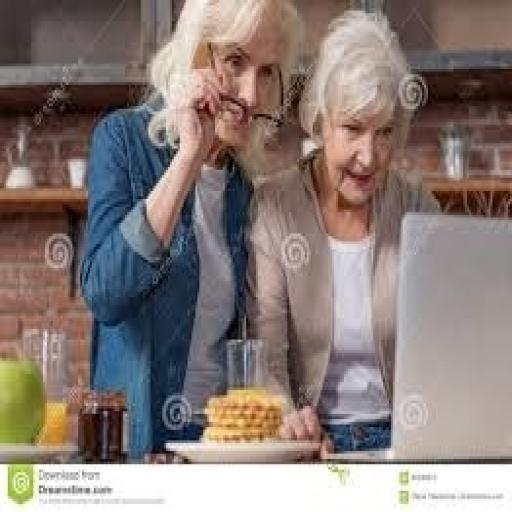using_laptop: (322, 207, 510, 464)
